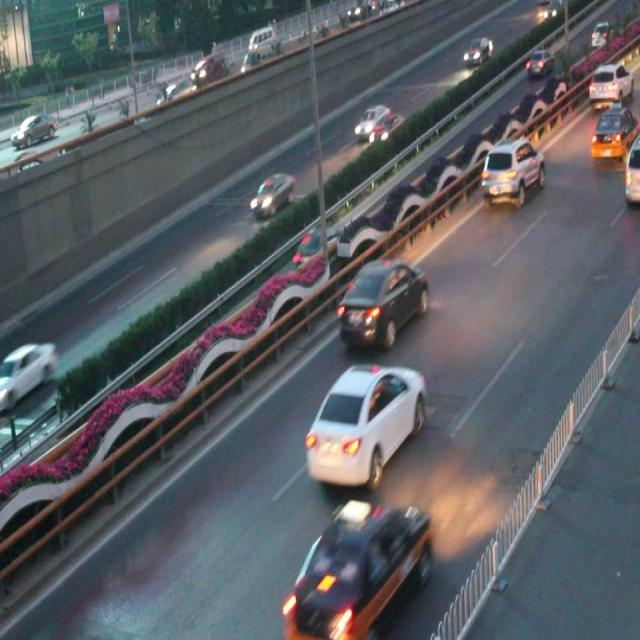car: (282, 497, 433, 634), (304, 361, 428, 484), (334, 258, 428, 344), (480, 138, 544, 206), (1, 337, 58, 410), (587, 110, 640, 157), (250, 170, 296, 215), (294, 222, 336, 266), (354, 102, 389, 143), (367, 115, 404, 147), (622, 142, 640, 200)
